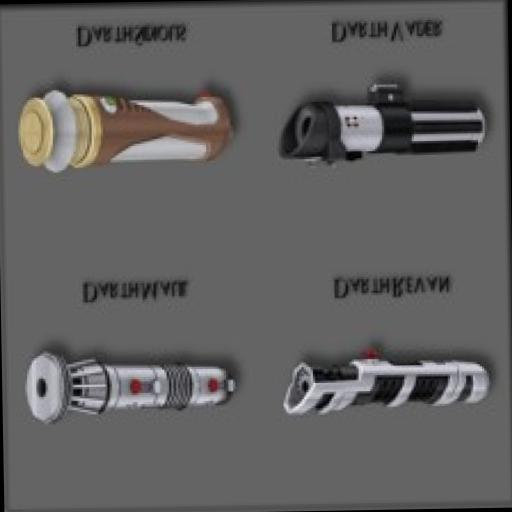lightsaber: (22, 325, 244, 428), (12, 82, 238, 174), (274, 72, 492, 166), (280, 344, 490, 418)
